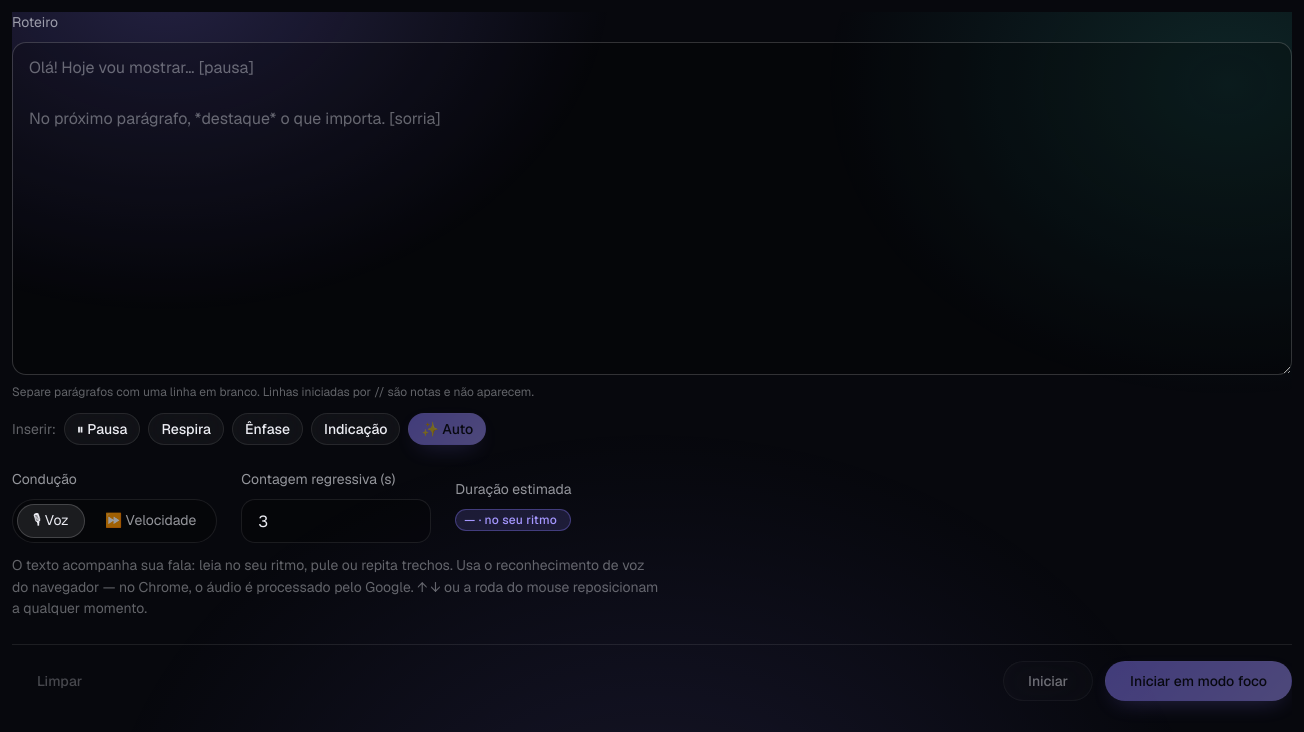
Test: <Teleprompter /> — editor › desabilita Iniciar com roteiro vazio e habilita ao digitar
Expected: the button "Iniciar" is disabled, [1003,661,1093,701]
Replace the text in the text box labelled "Roteiro" with "Olá": x=652, y=208 [12,42,1292,375]
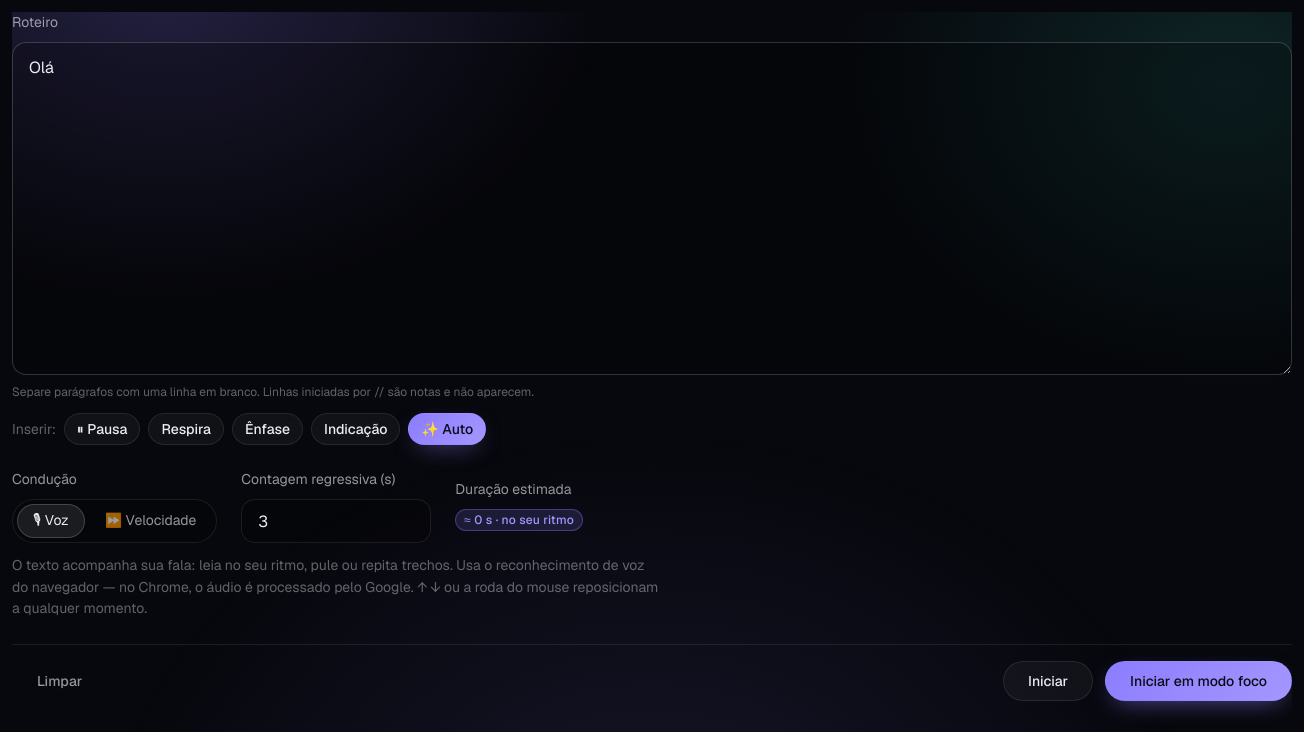
Result: the button "Iniciar" is enabled at [1003,661,1093,701]
